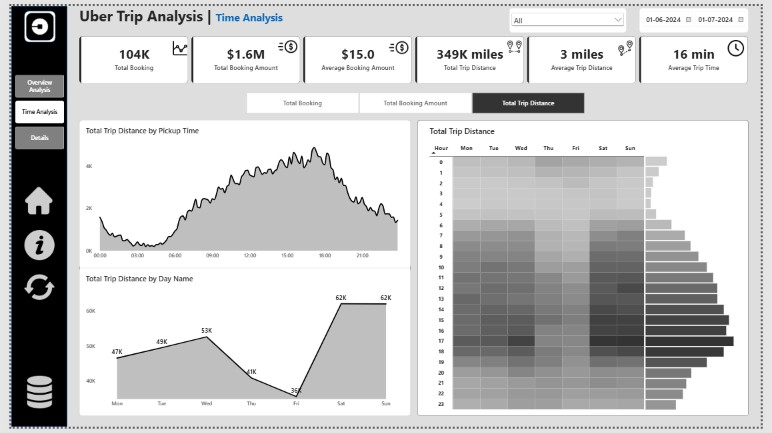

This screenshot's page, from the dashboard's own definition file:
{"tool":"powerbi","page":{"name":"Time Analysis","canvas":[1920,1080],"ordinal":1},"visuals":[{"type":"shape","box":[0,0,143.1,1078.9],"z":0},{"type":"textbox","box":[174.9,0,649.6,68.1],"z":1000},{"type":"cardVisual","fields":{"Data":["Trip Details.Total Booking","Trip Details.Total Booking Amount","Trip Details.Average Booking Amount","Trip Details.Total Trip Distance","Trip Details.Average Trip Distance","Trip Details.Average Trip Time"]},"box":[174.9,77.2,1715.2,122.9],"z":2000},{"type":"image","box":[1271.8,79.9,36.9,49.1],"z":3000},{"type":"image","box":[1829.7,87.3,54.1,41.8],"z":4000},{"type":"image","box":[1556.9,87.3,39.3,41.8],"z":5000},{"type":"image","box":[679.6,79.9,59,49.1],"z":6000},{"type":"image","box":[964.7,82.4,59,49.1],"z":7000},{"type":"image","box":[409.3,87.3,44.2,41.8],"z":8000},{"type":"slicer","fields":{"Values":["Dynamic Measures.Dynamic Measures"]},"box":[581.5,220.3,906.3,56.8],"z":9000},{"type":"shape","box":[174.9,293,849.5,758.6],"z":10000},{"type":"slicer","fields":{"Values":["Calender Table.Date"]},"box":[1610.4,4.5,279.4,63.6],"z":11000},{"type":"slicer","fields":{"Values":["Location Table.City"]},"box":[1276.5,4.5,299.8,63.6],"z":12000},{"type":"areaChart","fields":{"Category":["Trip Details.Pickup Hour (HH MM SS) (bins)"],"Y":["Trip Details.Total Trip Distance Measure"]},"box":[174.9,293,849.5,379.3],"z":13000},{"type":"areaChart","fields":{"Category":["Calender Table.Day Name"],"Y":["Trip Details.Total Trip Distance Measure"]},"box":[174.9,672.3,849.5,379.3],"z":14000},{"type":"shape","box":[1040.3,293,849.5,758.6],"z":15000},{"type":"pivotTable","fields":{"Columns":["Calender Table.Day Name"],"Rows":["Trip Details.Pickup Hour"],"Values":["Trip Details.Total Trip Distance Measure"]},"box":[1056.2,293,592.8,758.6],"z":16000},{"type":"barChart","title":"by Day Name ","fields":{"Category":["Trip Details.Pickup Hour"],"Y":["Trip Details.Total Trip Distance Measure"]},"box":[1610.4,363.4,279.4,713.2],"z":17000},{"type":"group","id":"g1","title":"Group 1","box":[25,12.5,95,80],"z":18000},{"type":"pageNavigator","box":[10,177.5,125,192.5],"z":19000},{"type":"image","box":[15,465,110,70],"z":20000},{"type":"image","box":[27.5,575,87.5,77.5],"z":21000},{"type":"image","box":[29.5,681.4,82.5,77.5],"z":22000},{"type":"image","box":[31.8,929,83.3,122.8],"z":23000},{"type":"shape","box":[32.5,12.5,80,80],"z":33000,"group":"g1"},{"type":"image","box":[25,17.5,95,70],"z":34000,"group":"g1"}]}

Visuals, with their boxes on the page's 1920x1080 design canvas (x1, y1, x2, y2). These are canvas units, not pixel positions in the 772x433 screenshot, which may show the page scaled, cropped or inside an application window:
shape: rect(0, 0, 143, 1079)
textbox: rect(175, 0, 824, 68)
cardVisual - Trip Details.Total Booking x Trip Details.Total Booking Amount: rect(175, 77, 1890, 200)
image: rect(1272, 80, 1309, 129)
image: rect(1830, 87, 1884, 129)
image: rect(1557, 87, 1596, 129)
image: rect(680, 80, 739, 129)
image: rect(965, 82, 1024, 132)
image: rect(409, 87, 454, 129)
slicer - Dynamic Measures.Dynamic Measures: rect(582, 220, 1488, 277)
shape: rect(175, 293, 1024, 1052)
slicer - Calender Table.Date: rect(1610, 4, 1890, 68)
slicer - Location Table.City: rect(1276, 4, 1576, 68)
areaChart - Trip Details.Pickup Hour (HH MM SS) (bins) x Trip Details.Total Trip Distance Measure: rect(175, 293, 1024, 672)
areaChart - Calender Table.Day Name x Trip Details.Total Trip Distance Measure: rect(175, 672, 1024, 1052)
shape: rect(1040, 293, 1890, 1052)
pivotTable - Calender Table.Day Name x Trip Details.Pickup Hour: rect(1056, 293, 1649, 1052)
"by Day Name " barChart: rect(1610, 363, 1890, 1077)
"Group 1" group: rect(25, 12, 120, 92)
pageNavigator: rect(10, 178, 135, 370)
image: rect(15, 465, 125, 535)
image: rect(28, 575, 115, 652)
image: rect(30, 681, 112, 759)
image: rect(32, 929, 115, 1052)
shape: rect(32, 12, 112, 92)
image: rect(25, 18, 120, 88)
